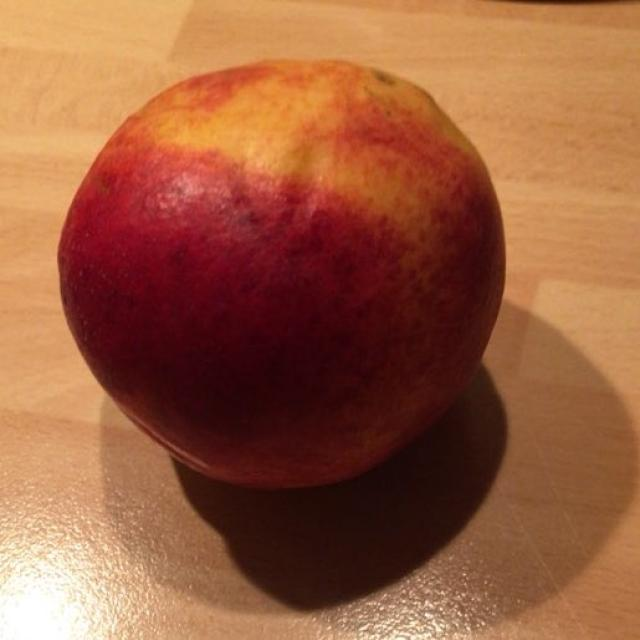peach: (62, 65, 494, 465)
